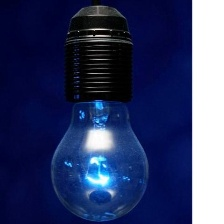light_bulb: (44, 92, 156, 224)
